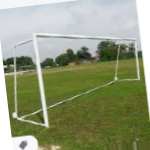goals: (11, 31, 141, 127)
